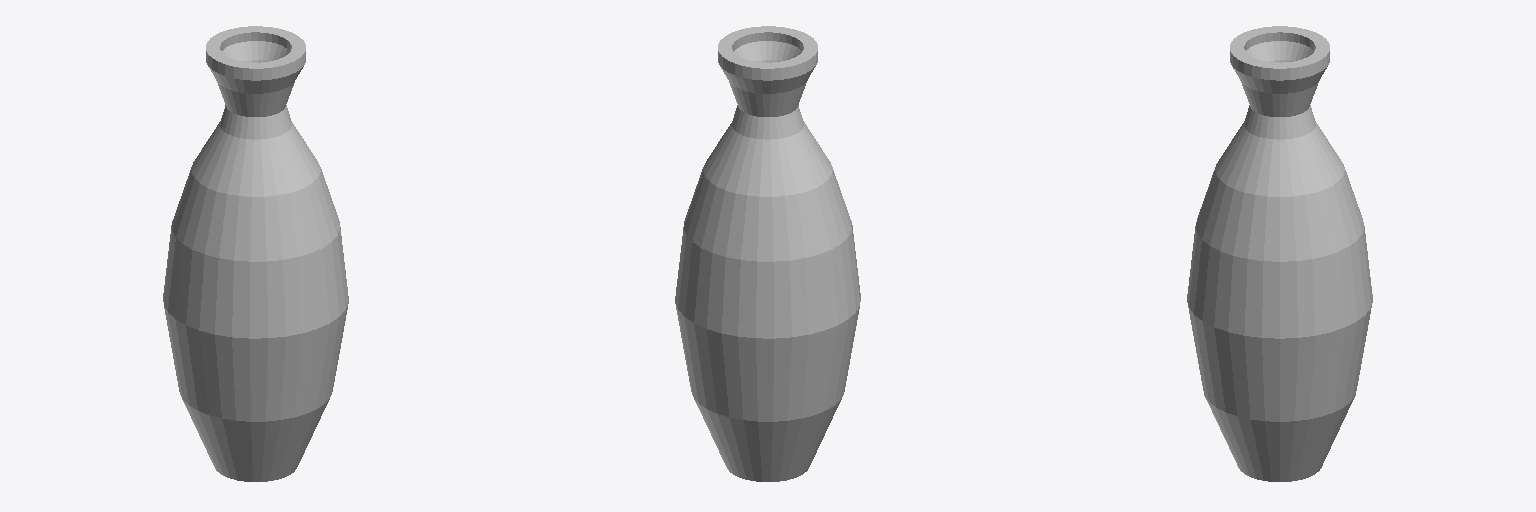
Rendered from vase_test.obj.
3 views of the same model, side by side, from view 1: azimuth 30°, elevation 25°; view 2: azimuth 150°, elevation 25°; view 3: azimuth 270°, elevation 25° (orthographic).
Visible parts, largest first — view 1: Vase; view 2: Vase; view 3: Vase.
Part boxes in pixels (left/top/right/bottom): Vase: left=163, top=26, right=348, bottom=481; Vase: left=675, top=26, right=860, bottom=481; Vase: left=1187, top=26, right=1372, bottom=481.
Size of the model in its own units: 0.6381 by 1.58 by 0.6381.